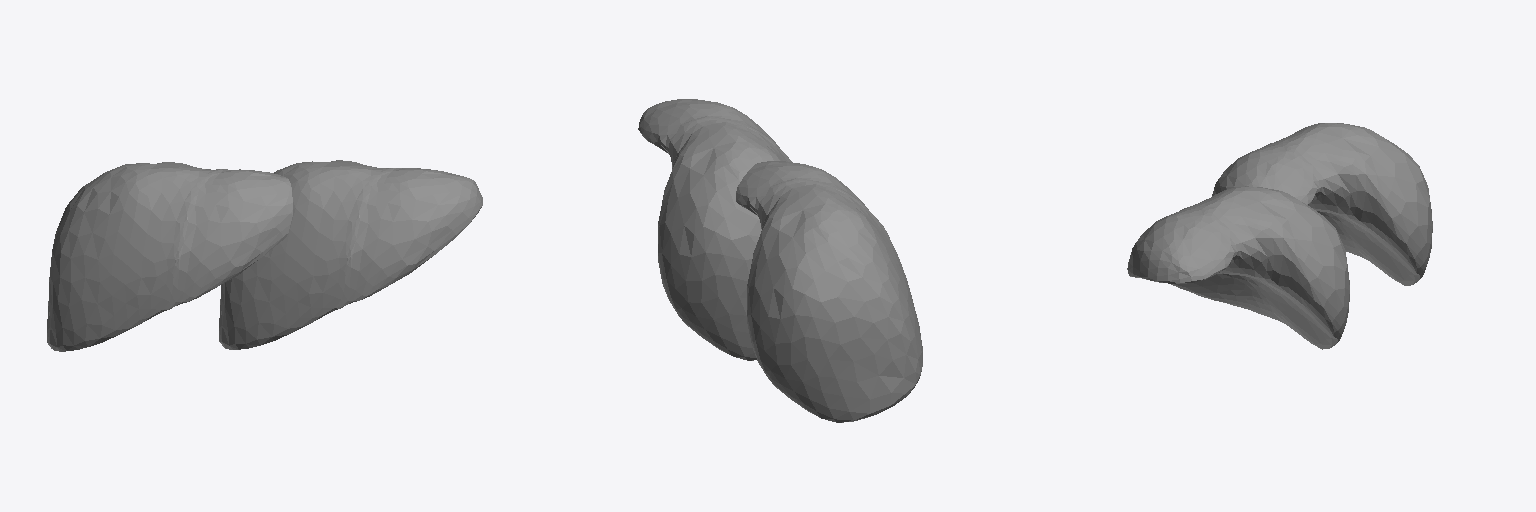
Rendered from pic2.obj.
3 renders of one model, left to right at view 1: azimuth 30°, elevation 25°; view 2: azimuth 150°, elevation 25°; view 3: azimuth 270°, elevation 25°, orthographic.
Visible parts, largest first — view 1: default, default01; view 2: default, default01; view 3: default01, default.
Boxes of the visible parts, <box> form: default: <box>47,162,292,351</box>; default01: <box>219,160,482,349</box>; default: <box>736,161,922,422</box>; default01: <box>638,99,791,360</box>; default01: <box>1127,186,1349,349</box>; default: <box>1212,123,1432,285</box>.
Bounding box in the file's own units: 9.55 × 4.76 × 7.27.